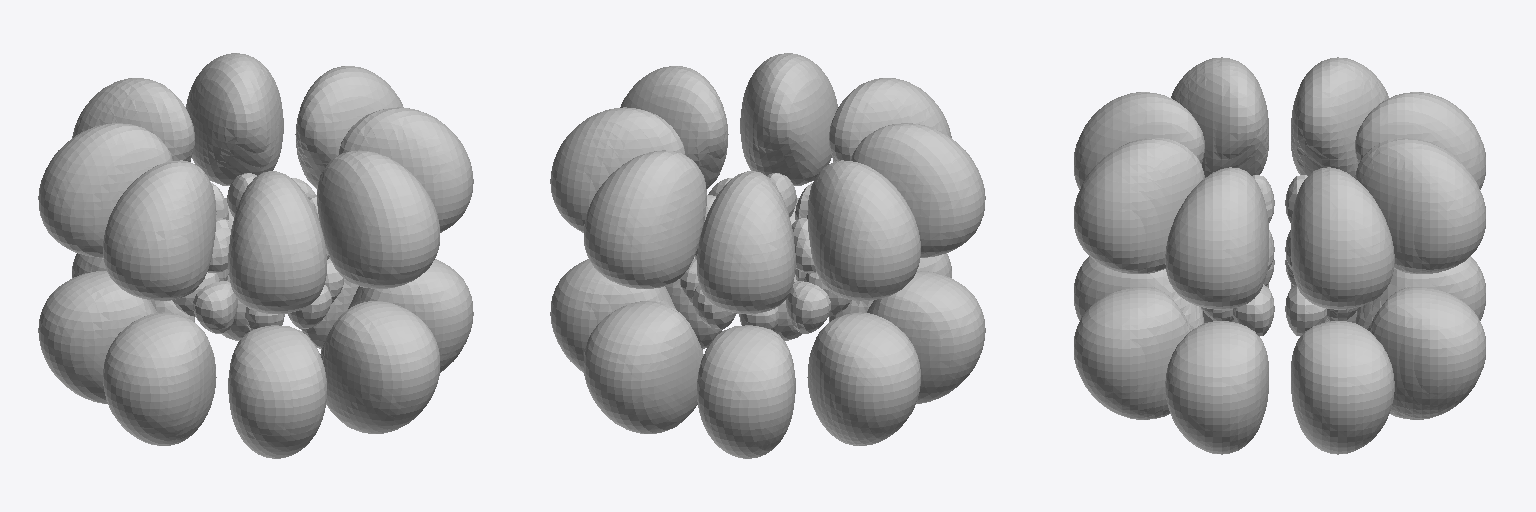
Rendered from orb_n=7_ l=5 _m=-4.obj.
3 views of the same model, side by side, from view 1: azimuth 30°, elevation 25°; view 2: azimuth 150°, elevation 25°; view 3: azimuth 270°, elevation 25° (orthographic).
Parts seen in each view (by area): view 1: orb_n=7__l=5__m=-4; view 2: orb_n=7__l=5__m=-4; view 3: orb_n=7__l=5__m=-4.
Boxes of the visible parts, x1,y1,x2,y2 form: orb_n=7__l=5__m=-4: [38, 53, 473, 458]; orb_n=7__l=5__m=-4: [550, 53, 985, 458]; orb_n=7__l=5__m=-4: [1074, 57, 1485, 454].
Bounding box in the file's own units: 165 × 121 × 165.